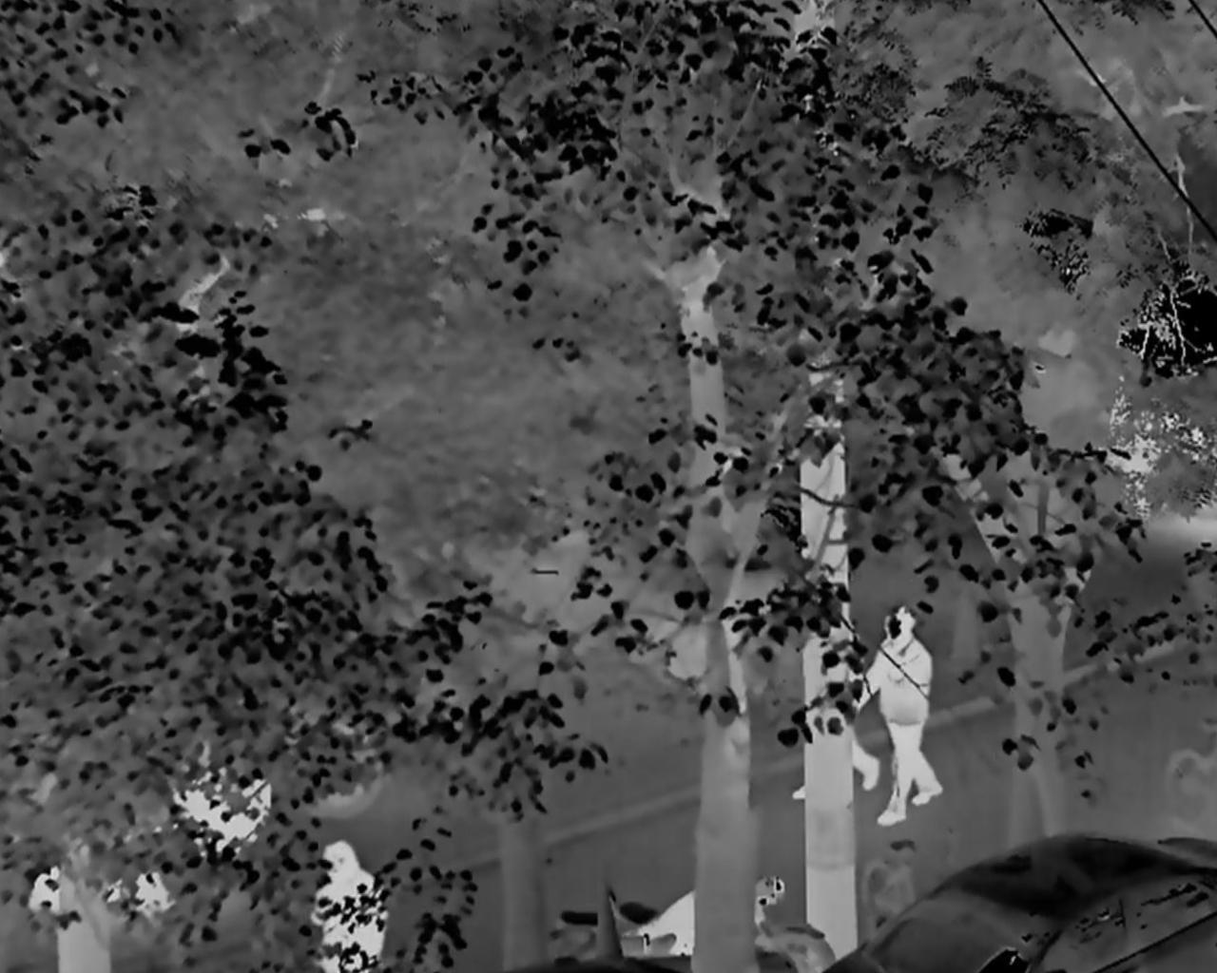person: (854, 603, 944, 826), (791, 613, 879, 800), (308, 838, 389, 973)
